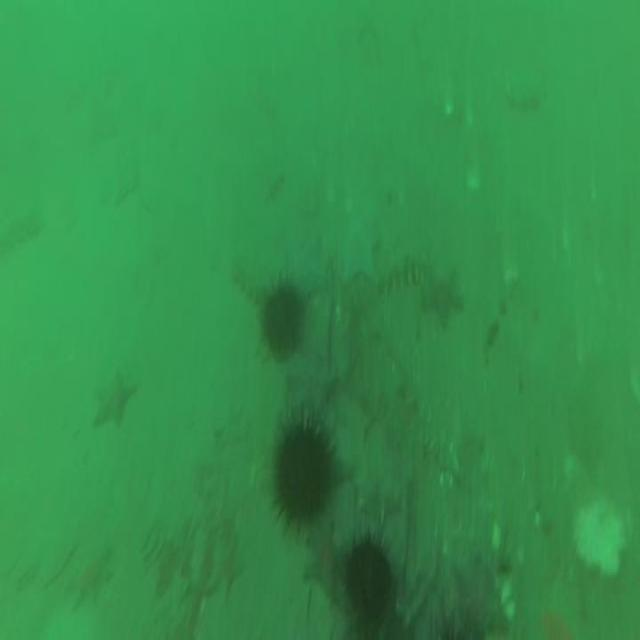echinus: (273, 428, 331, 522), (346, 544, 392, 616), (262, 289, 302, 357)
holothurian: (372, 253, 426, 295), (234, 261, 269, 303)
scallop: (570, 499, 626, 577)
starfish: (303, 522, 339, 594), (65, 550, 108, 608), (91, 372, 134, 428), (292, 237, 330, 294), (420, 270, 460, 324), (340, 223, 377, 281), (210, 546, 242, 598)
